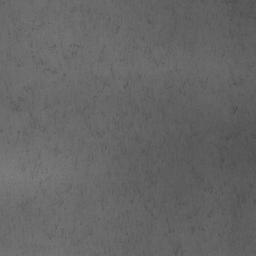Silk spot: (0, 0, 256, 256), (7, 7, 84, 87), (205, 0, 256, 57), (98, 45, 106, 62), (173, 244, 183, 256)
